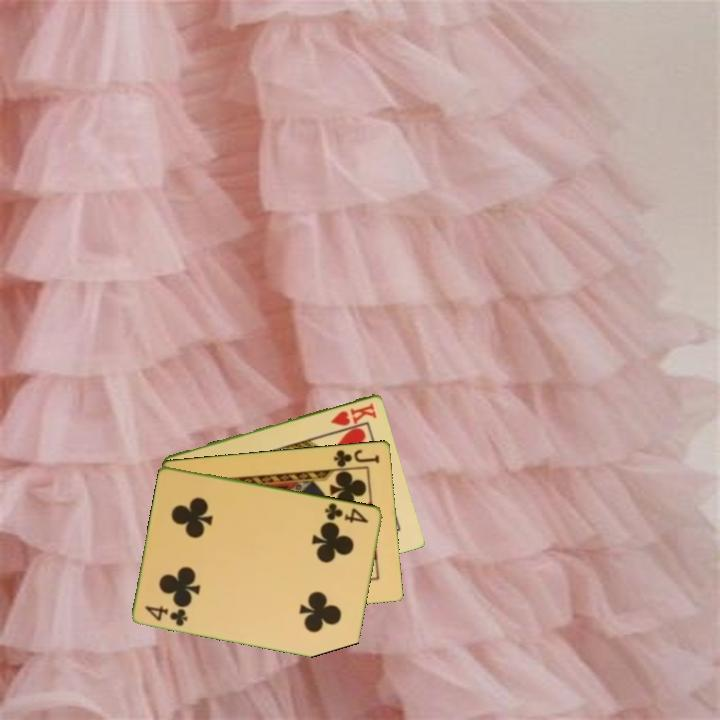4c: (321, 499, 371, 526), (142, 602, 191, 629)
Jc: (331, 446, 382, 470)
Kh: (328, 399, 379, 428)
